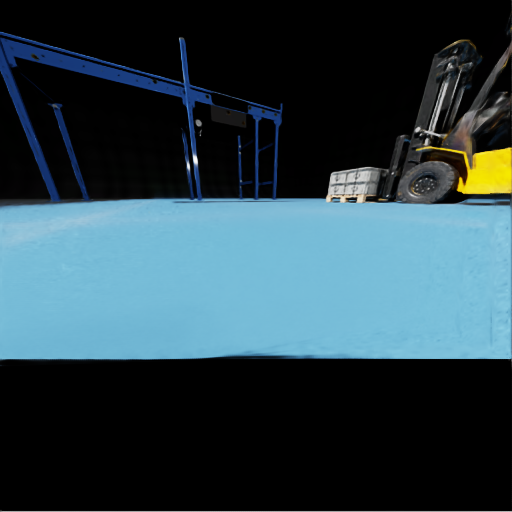transportation_area: (344, 182, 383, 194), (183, 91, 184, 92), (42, 55, 43, 56)
